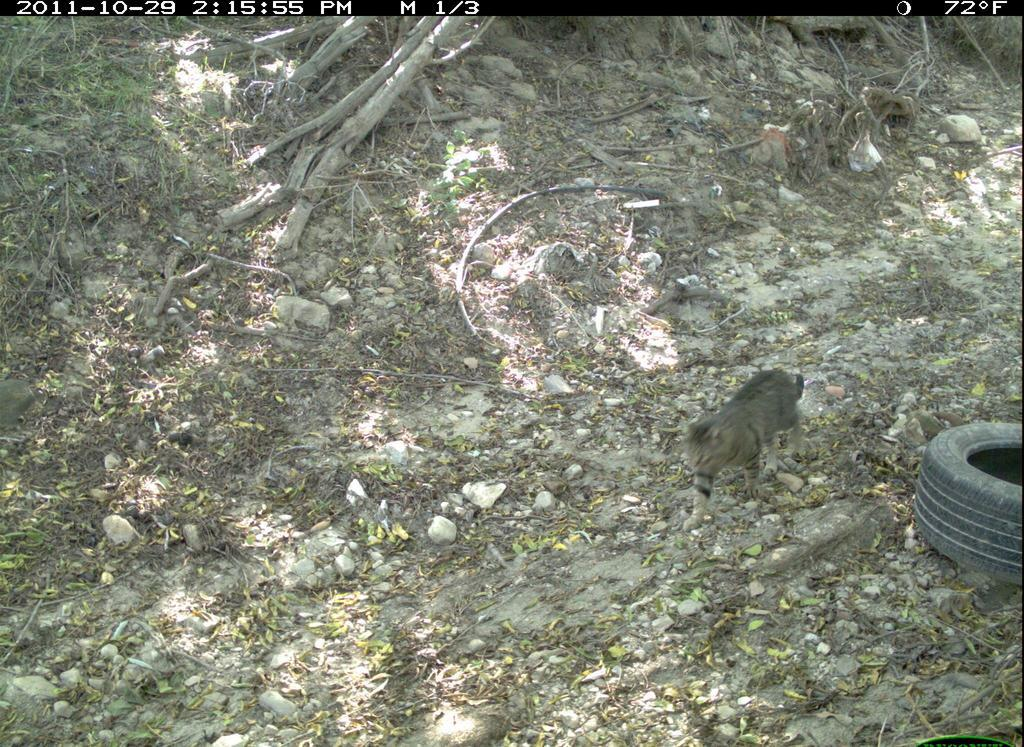cat: (669, 353, 818, 534)
